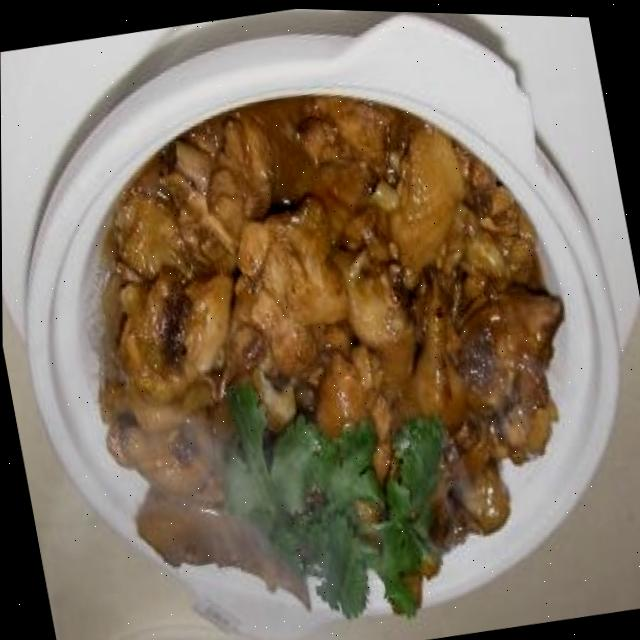鸡肉料理 含炸鸡: (71, 71, 567, 620)
